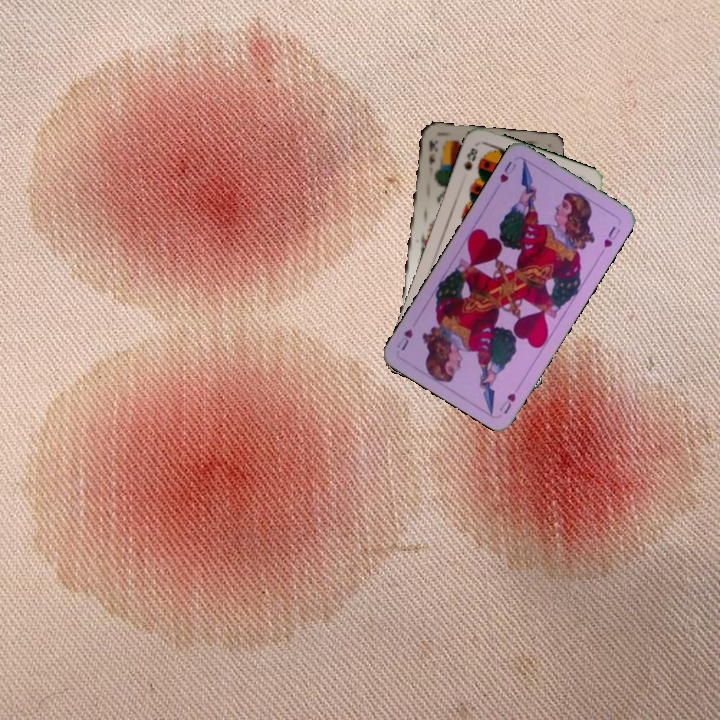EK: (424, 136, 438, 167)
HU: (496, 157, 519, 185), (495, 389, 518, 417)
S8: (460, 144, 480, 173)
